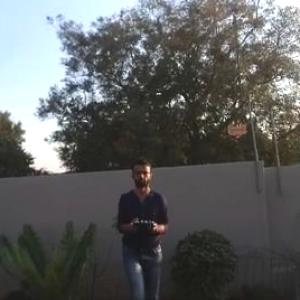follow: (106, 154, 175, 299)
